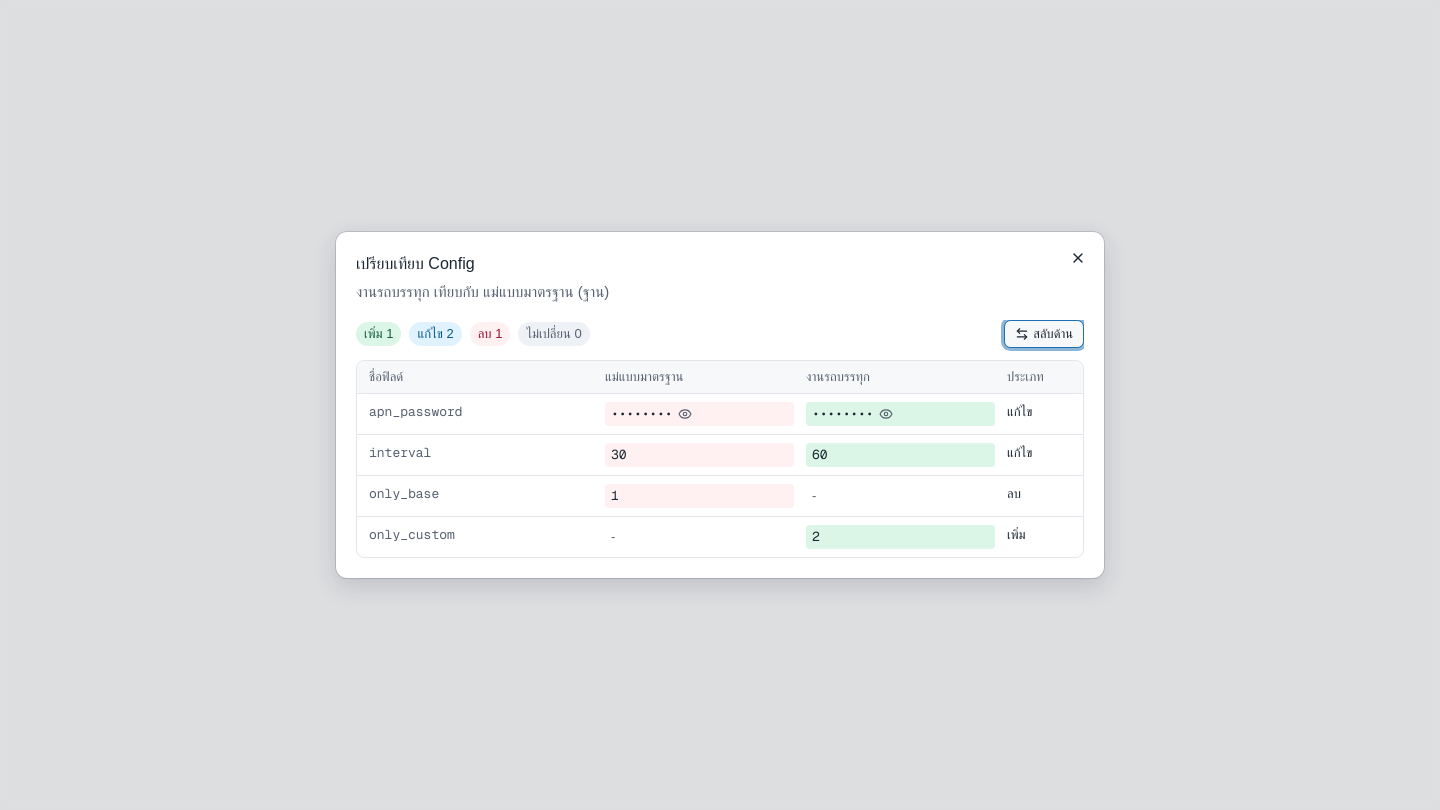
Test: ConfigCompareDialog › สลับด้านแล้วค่าฐานกับค่าเทียบกลับกัน (เพิ่มกลายเป็นลบ)
Click the button "สลับด้าน". click: (1044,334)
box: [1004,320,1084,348]
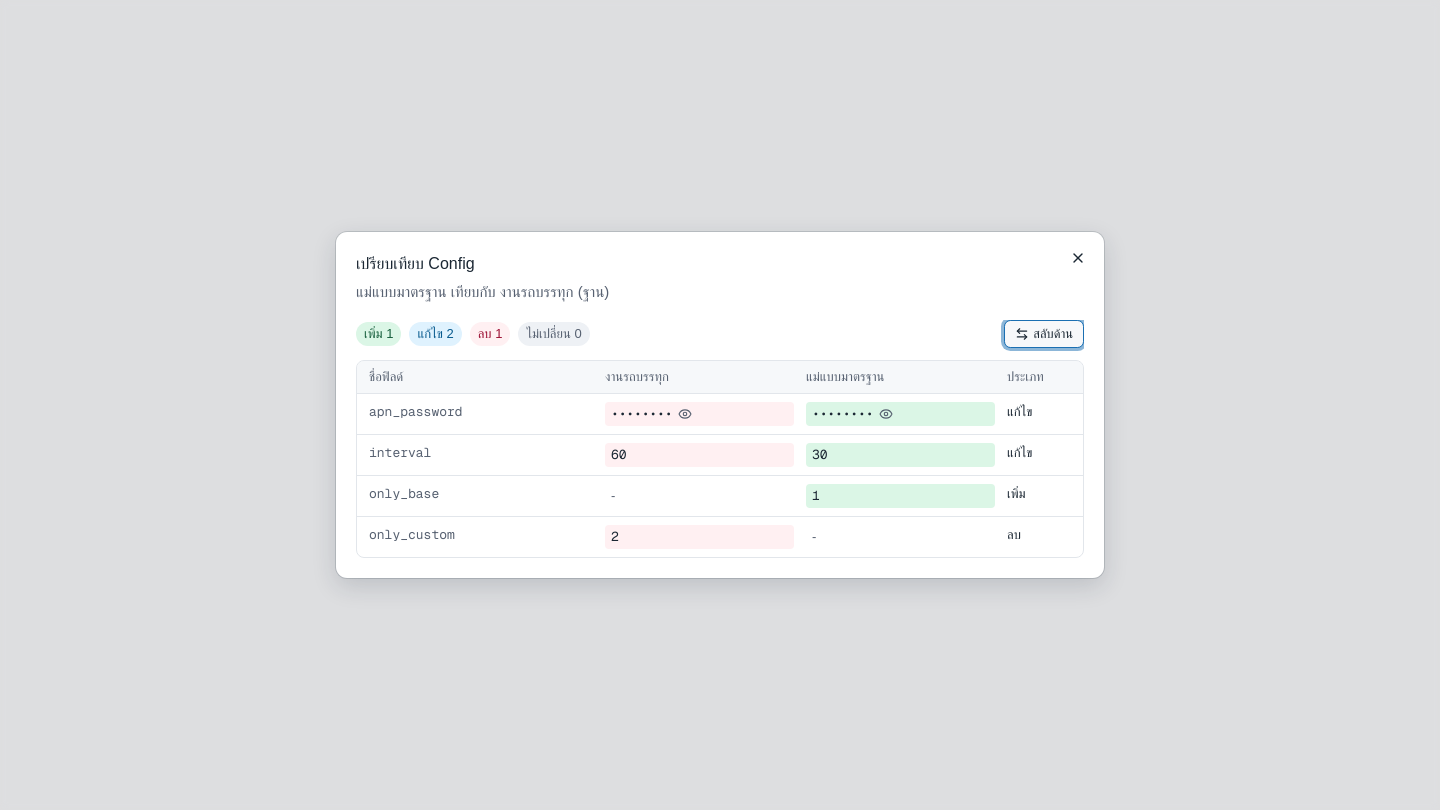
Expected: the text "เพิ่ม 1" is shown, [356,322,402,346]
Now the text "แม่แบบมาตรฐาน เทียบกับ งานรถบรรทุก (ฐาน)" is shown, box [356,283,609,300]
